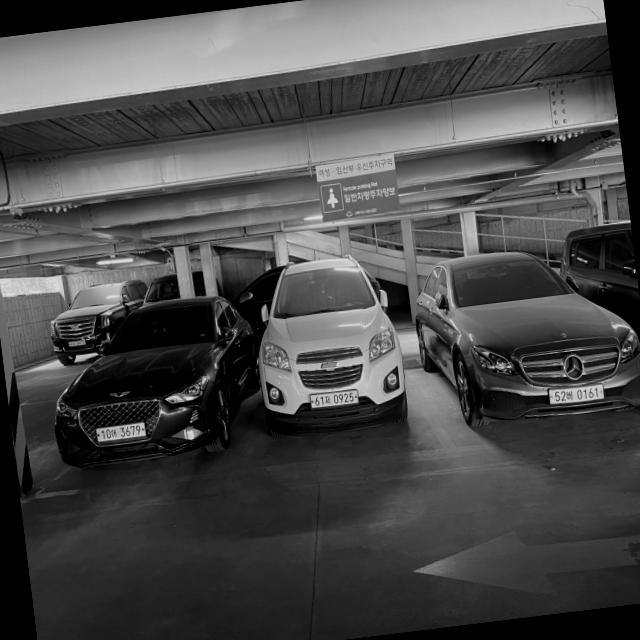car: (415, 237, 640, 465), (30, 292, 255, 482), (238, 249, 418, 456)
